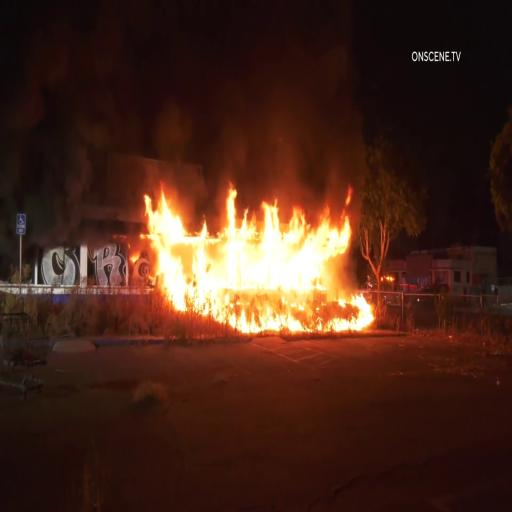fire: (144, 182, 364, 340)
